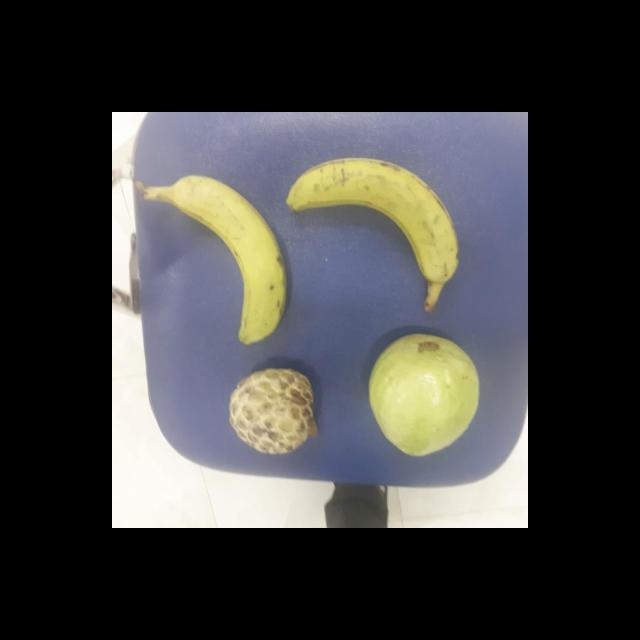Sakya fruit: (230, 368, 324, 456)
banana: (286, 162, 468, 294), (171, 175, 292, 344)
guava: (370, 335, 489, 454), (230, 368, 322, 454)
